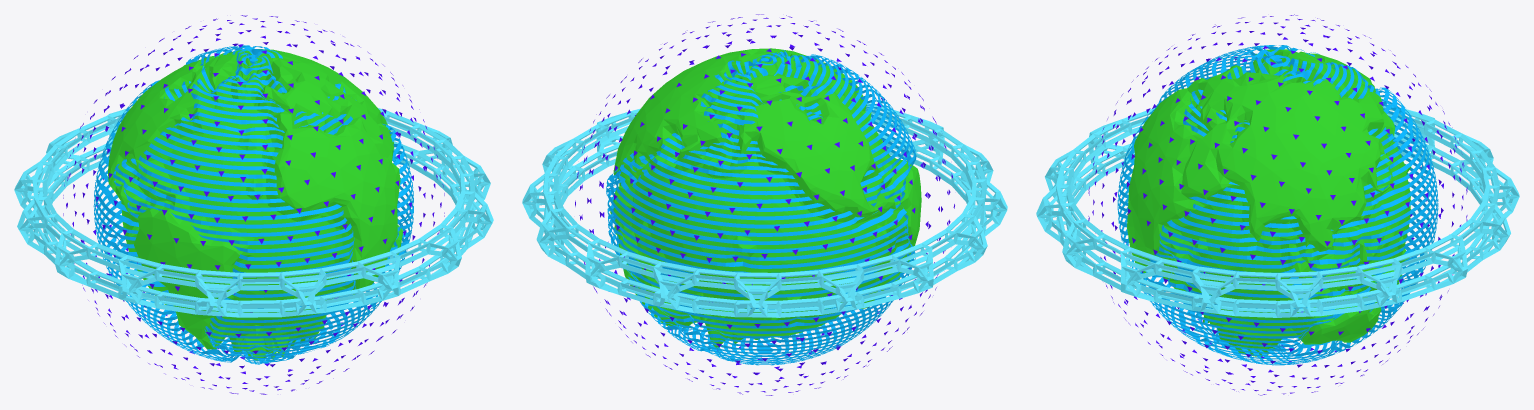
File: managed-it.glb
3 views of the same model, side by side, from view 1: azimuth 30°, elevation 25°; view 2: azimuth 150°, elevation 25°; view 3: azimuth 270°, elevation 25° (orthographic).
Parts seen in each view (by area): view 1: Icosphere.002, Circle.002, Sphere.004, Circle; view 2: Icosphere.002, Sphere.004, Circle.002, Circle; view 3: Icosphere.002, Circle.002, Sphere.004, Circle.
Boxes of the visible parts, x1,y1,x2,y2 form: Icosphere.002: (108, 49, 403, 360); Circle.002: (14, 107, 493, 317); Sphere.004: (93, 45, 413, 364); Circle: (63, 15, 444, 394); Icosphere.002: (610, 48, 921, 348); Sphere.004: (606, 50, 916, 365); Circle.002: (522, 103, 1007, 317); Circle: (575, 14, 954, 395); Icosphere.002: (1127, 49, 1410, 356); Circle.002: (1036, 106, 1519, 317); Sphere.004: (1117, 45, 1438, 365); Circle: (1088, 14, 1467, 395).
Bounding box in the file's own units: 10.1 × 7.98 × 10.1.
6 materials, 4 textured.
